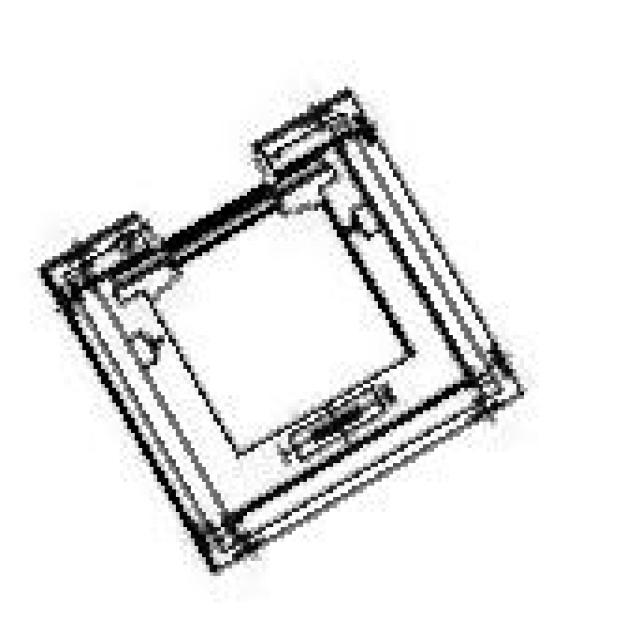lift: (30, 83, 524, 568)
